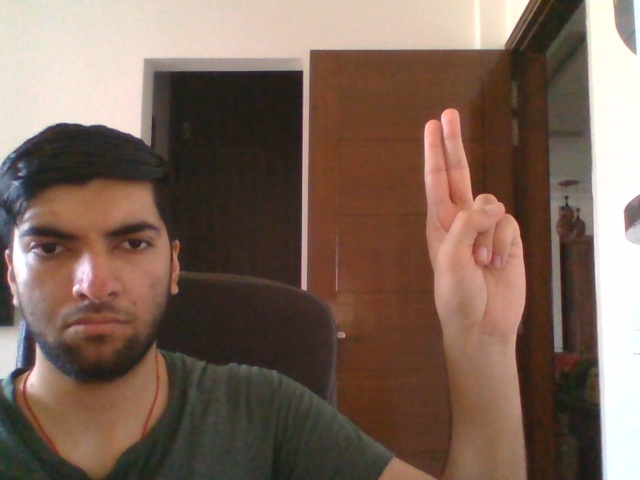LetterU: (420, 106, 530, 338)
